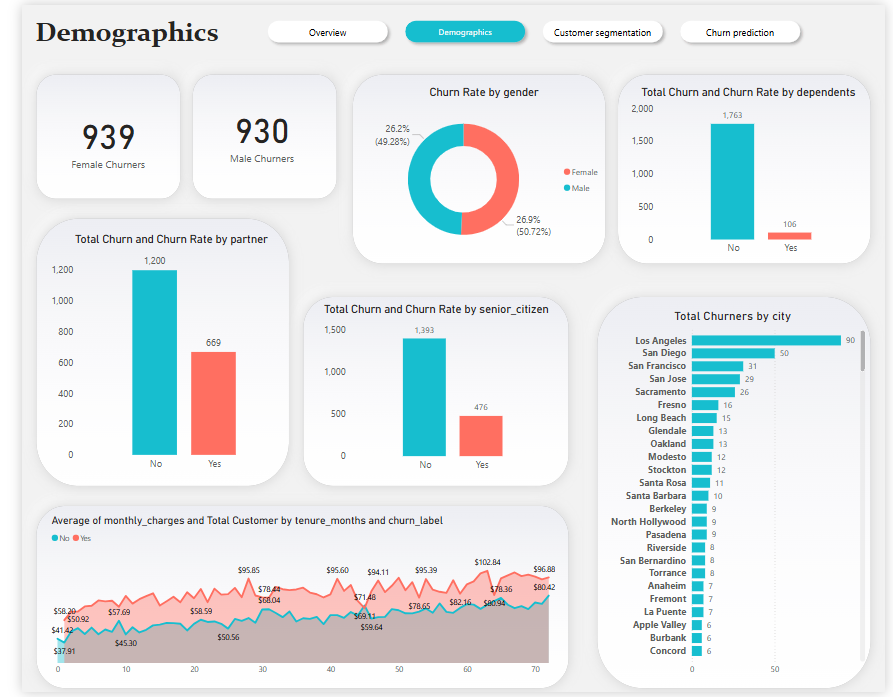

The page's visual inventory and layout, read from the dashboard file:
{"tool":"powerbi","page":{"name":"Demographics","canvas":[1380,1100],"ordinal":1},"visuals":[{"type":"donutChart","title":"Churn Rate by gender","fields":{"Category":["telco_churn.gender"],"Y":["telco_churn.Churn Rate %"]},"box":[541.4,128.6,394.3,281.4],"z":0},{"type":"columnChart","title":"Total Churn and Churn Rate by partner","fields":{"Category":["telco_churn.partner"],"Y":["telco_churn.Total Churn"]},"box":[42,364,394,390],"z":1000},{"type":"columnChart","title":"Total Churn and Churn Rate by dependents","fields":{"Category":["telco_churn.dependents"],"Y":["telco_churn.Total Churn"]},"box":[970,128.6,384.3,281.4],"z":2000},{"type":"lineChart","fields":{"Y":["Avg(telco_churn.monthly_charges)"],"Series":["telco_churn.churn_label"],"Category":["telco_churn.tenure_months"]},"box":[42,814,816,268],"z":3000},{"type":"clusteredColumnChart","title":"Total Churn and Churn Rate by senior_citizen","fields":{"Category":["telco_churn.senior_citizen"],"Y":["telco_churn.Nr. of Churned customers"]},"box":[477.1,475.7,381.4,280],"z":4000},{"type":"clusteredBarChart","title":"Total Churners by city ","fields":{"Category":["telco_churn.city"],"Y":["telco_churn.Total Customer"],"Series":["telco_churn.churn_label"]},"box":[920,485.7,434.3,595.7],"z":5000},{"type":"textbox","box":[15.7,11.4,320,70],"z":6000},{"type":"card","fields":{"Values":["telco_churn.Total Churn"]},"box":[28.6,131.4,220,167.1],"z":7000},{"type":"card","fields":{"Values":["telco_churn.Total Churn"]},"box":[274.3,130,220,152.9],"z":8000},{"type":"pageNavigator","box":[383.3,15,870,53.3],"z":9000}]}

Visuals, with their boxes in screenshot pixels (x1, y1, x2, y2), scaled from the page's 1380x1100 canvas onto the 893x697 screenshot:
"Churn Rate by gender" donutChart: <bbox>350, 81, 605, 260</bbox>
"Total Churn and Churn Rate by partner" columnChart: <bbox>27, 231, 282, 478</bbox>
"Total Churn and Churn Rate by dependents" columnChart: <bbox>628, 81, 876, 260</bbox>
lineChart - Avg(telco_churn.monthly_charges) x telco_churn.churn_label: <bbox>27, 516, 555, 686</bbox>
"Total Churn and Churn Rate by senior_citizen" clusteredColumnChart: <bbox>309, 301, 556, 479</bbox>
"Total Churners by city " clusteredBarChart: <bbox>595, 308, 876, 685</bbox>
textbox: <bbox>10, 7, 217, 52</bbox>
card - telco_churn.Total Churn: <bbox>19, 83, 161, 189</bbox>
card - telco_churn.Total Churn: <bbox>177, 82, 320, 179</bbox>
pageNavigator: <bbox>248, 10, 811, 43</bbox>
